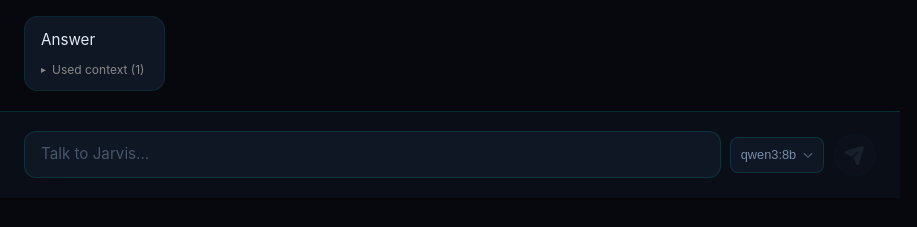
Test: ChatPanel › expansion trace items get hollow dot and navigation link
Click the button with class "trace-list__toggle" at (93, 69), box 37,60 -> 148,79
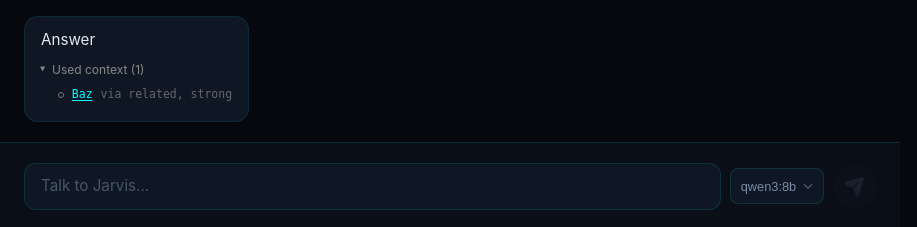
expect the list item with class "trace-list__item--expansion" is shown: met, box 58,86 -> 232,103
expect the element with class "trace-list__dot--expansion" is shown: met, box 58,92 -> 64,98
